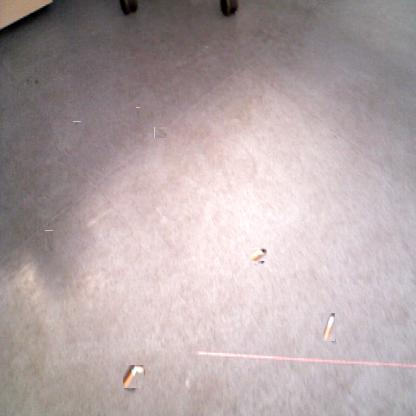dirty: (122, 364, 144, 388), (323, 313, 335, 341), (251, 247, 266, 263)
mark: (45, 230, 53, 251), (154, 126, 167, 138), (74, 120, 81, 127), (136, 107, 140, 118), (34, 78, 41, 84), (26, 78, 32, 84), (258, 92, 262, 100)
